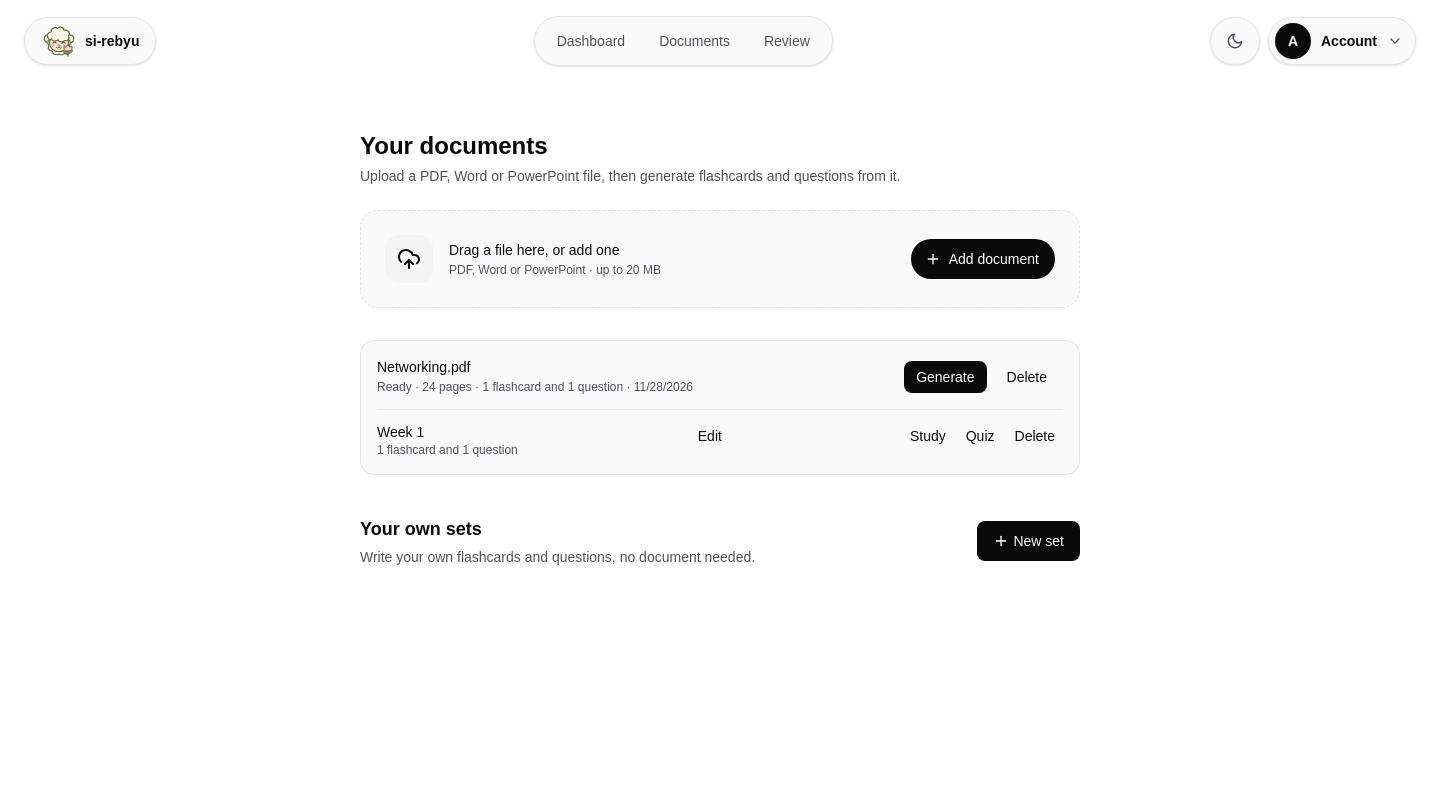
Test: Documents page › deleting a document also removes its study sets from the list
Expected: the text "Week 1" is shown, [377, 424, 424, 440]
What coordinates should you click on to do the following:
click the button with aria-label "Delete Networking.pdf"
I would click on:
 (1027, 377)
Its box is [990, 357, 1063, 397].
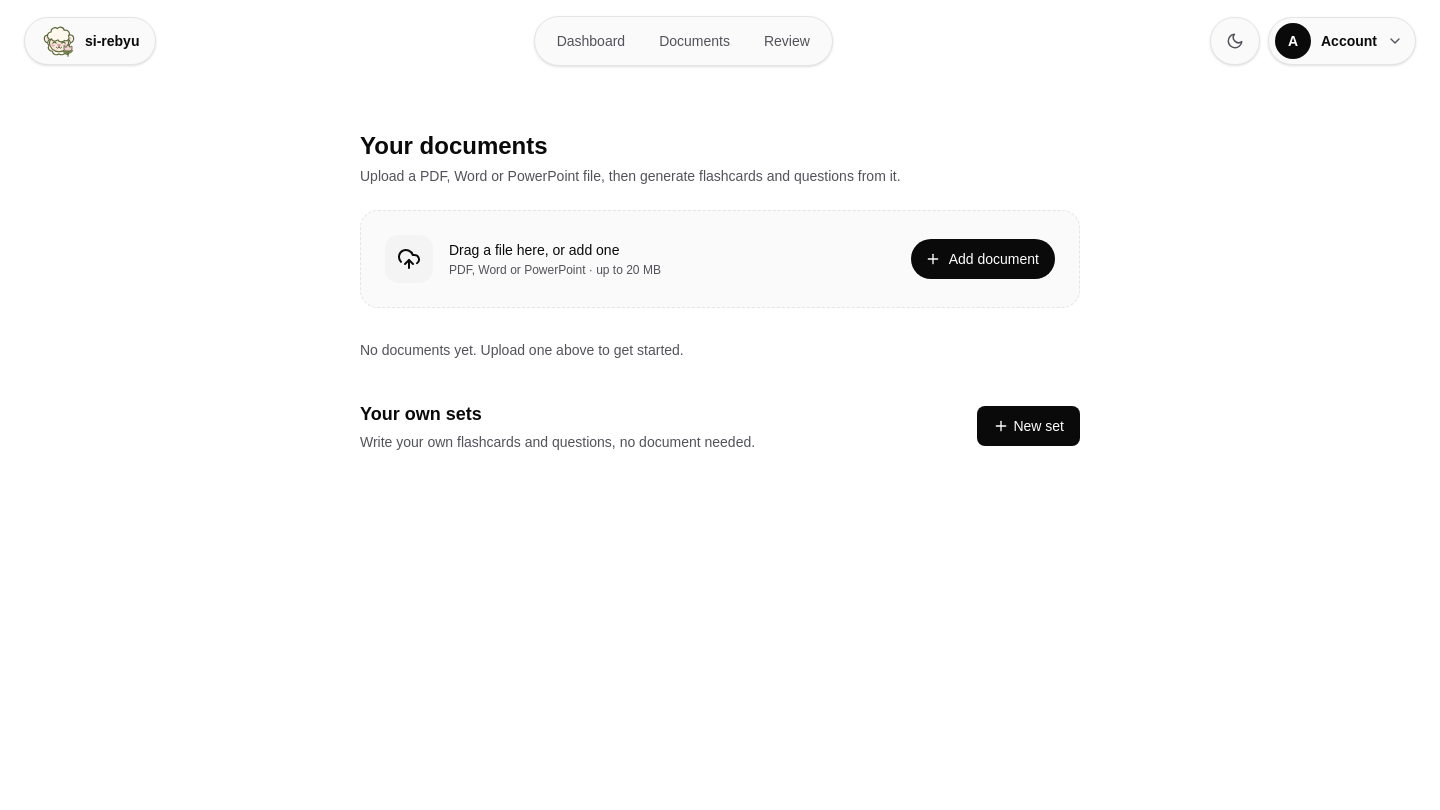
Result: the text "Networking.pdf" is gone
Result: the text "Week 1" is gone
